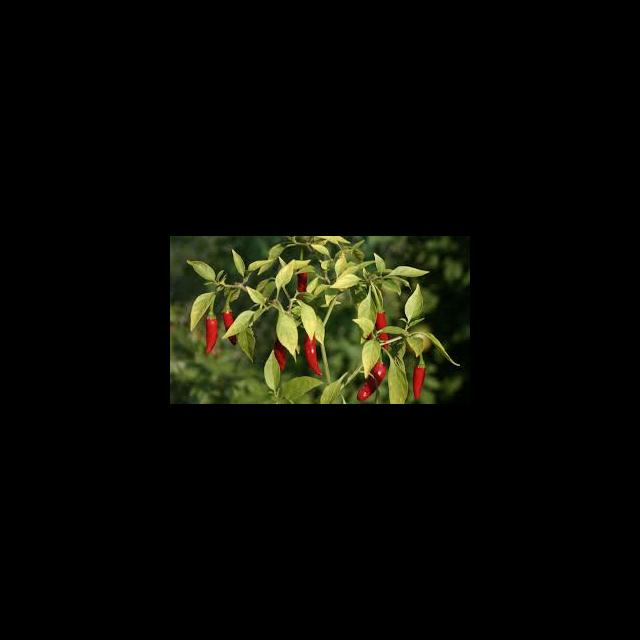chili_pepper: (356, 361, 387, 402), (303, 339, 321, 376), (204, 318, 219, 355), (414, 360, 427, 401), (272, 344, 287, 371), (232, 250, 246, 277), (375, 312, 386, 331)
